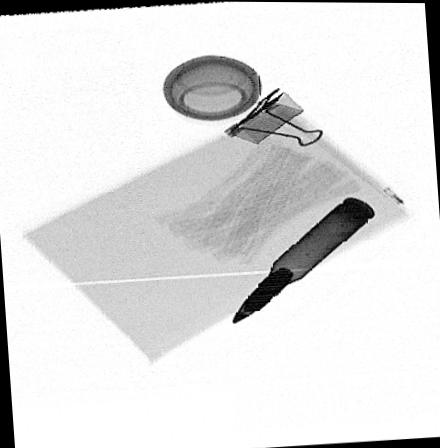Bullet: (230, 195, 377, 325)
